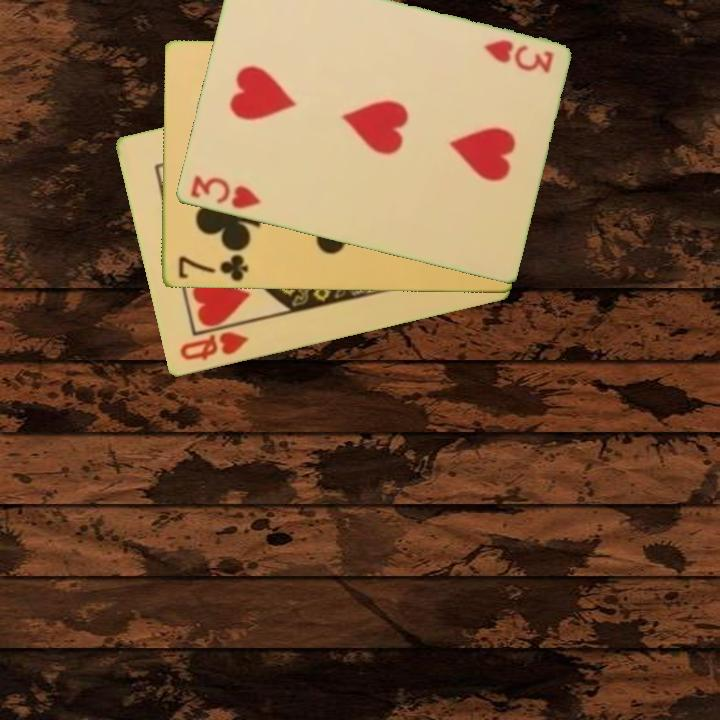3h: (479, 36, 556, 77), (186, 172, 263, 212)
7c: (174, 251, 251, 284)
Qh: (176, 328, 252, 364)
